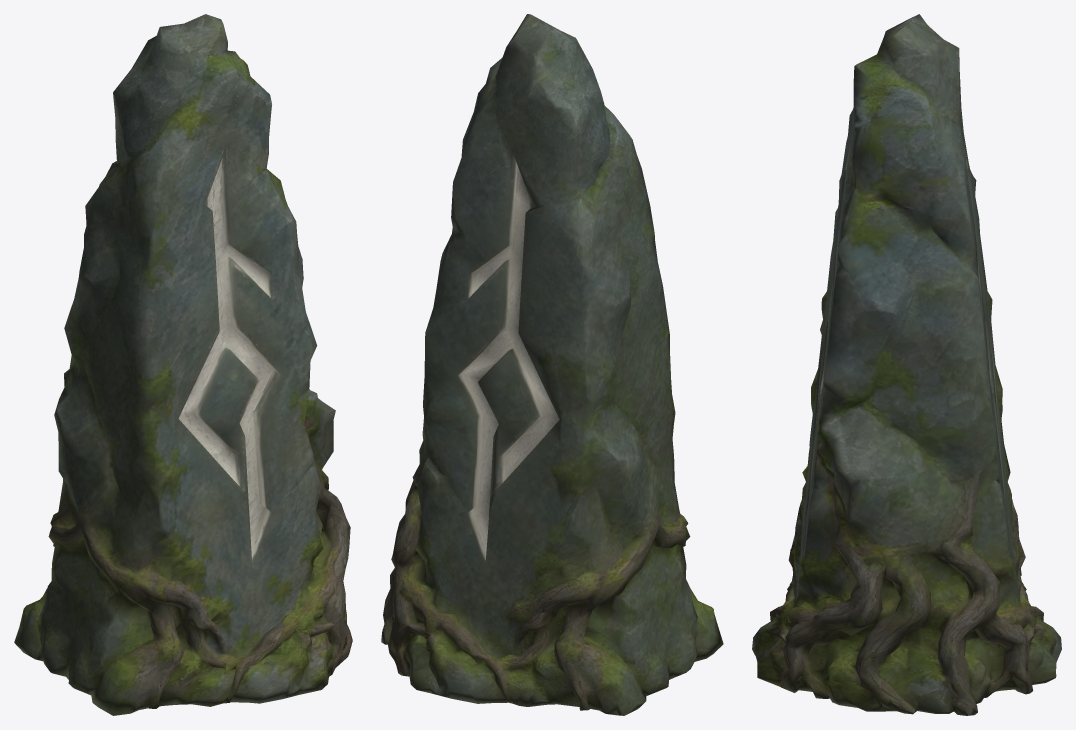
The model's file is piedra-runica.glb.
The picture shows the model from 3 angles, left to right: view 1: azimuth 30°, elevation 25°; view 2: azimuth 150°, elevation 25°; view 3: azimuth 270°, elevation 25°; orthographic projection.
Parts seen in each view (by area): view 1: tripo_node_0f370d71-0fd9-4165-82b2-fb7df8f479e9; view 2: tripo_node_0f370d71-0fd9-4165-82b2-fb7df8f479e9; view 3: tripo_node_0f370d71-0fd9-4165-82b2-fb7df8f479e9.
Part boxes in pixels (x1,y1,x2,y2): tripo_node_0f370d71-0fd9-4165-82b2-fb7df8f479e9: [14, 14, 352, 715]; tripo_node_0f370d71-0fd9-4165-82b2-fb7df8f479e9: [381, 14, 723, 715]; tripo_node_0f370d71-0fd9-4165-82b2-fb7df8f479e9: [752, 14, 1061, 715].
Bounding box in the file's own units: 0.4479 × 1 × 0.4441.
Materials: 1 (1 with a texture image).
